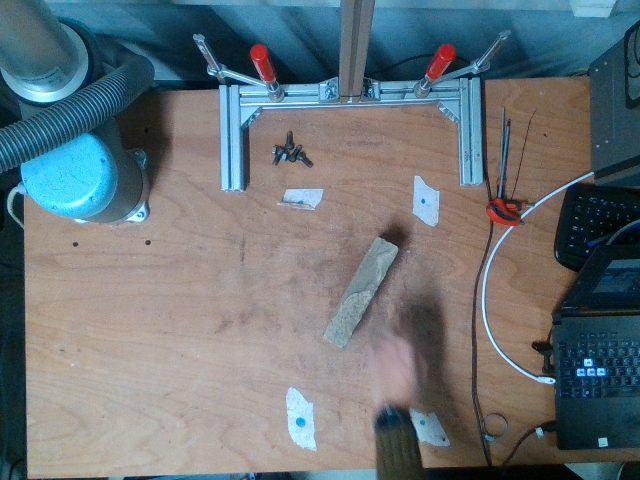brick-side: (324, 239, 397, 345)
